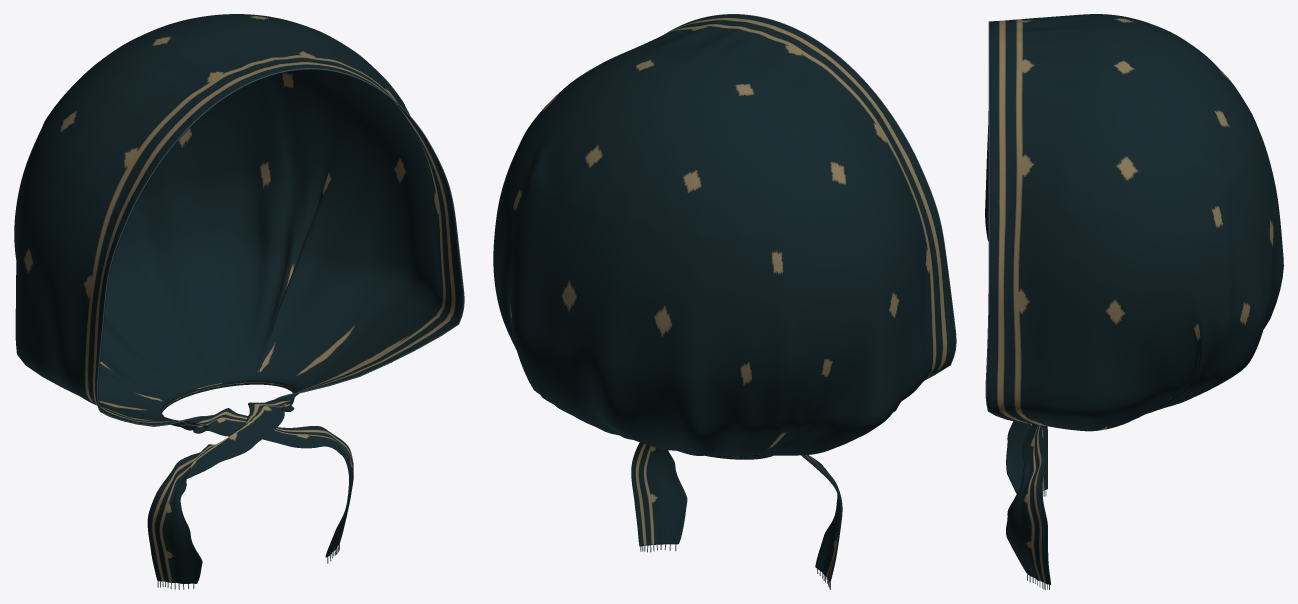
The model's file is Feminine-tank-pashmina245-headgear.glb.
3 views of the same model, side by side, from view 1: azimuth 30°, elevation 25°; view 2: azimuth 150°, elevation 25°; view 3: azimuth 270°, elevation 25° (orthographic). The views are drawn at different scales.
Visible parts, largest first — view 1: 226 headgear / Headwear / continuous woven pashmina239, 226 headgear / Headwear / face edge239; view 2: 226 headgear / Headwear / continuous woven pashmina239, 226 headgear / Headwear / face edge239; view 3: 226 headgear / Headwear / continuous woven pashmina239, 226 headgear / Headwear / face edge239.
Boxes of the visible parts, bbox=[...] form: 226 headgear / Headwear / continuous woven pashmina239: bbox=[14, 14, 463, 583]; 226 headgear / Headwear / face edge239: bbox=[96, 68, 464, 426]; 226 headgear / Headwear / continuous woven pashmina239: bbox=[493, 14, 955, 583]; 226 headgear / Headwear / face edge239: bbox=[664, 14, 956, 379]; 226 headgear / Headwear / continuous woven pashmina239: bbox=[985, 14, 1283, 584]; 226 headgear / Headwear / face edge239: bbox=[985, 21, 1028, 423].
Size of the model in its own units: 1.02 by 1.35 by 0.7116.
Materials: 3 (1 with a texture image).
